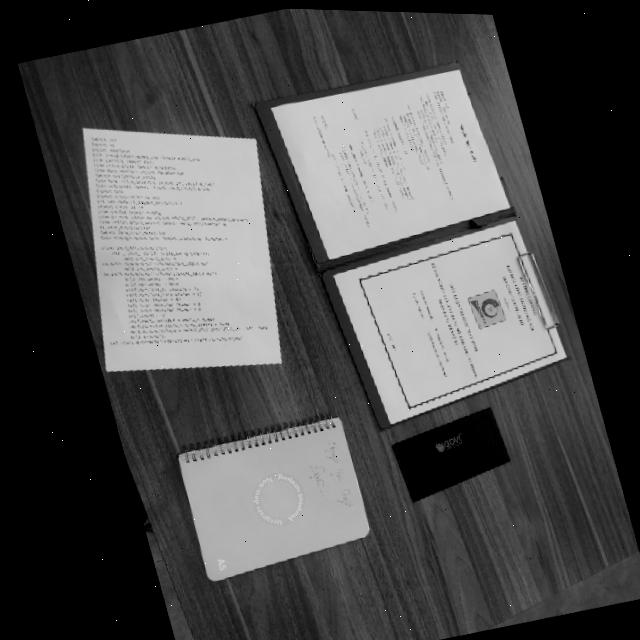document: (83, 127, 282, 371), (333, 220, 566, 424), (271, 69, 510, 259), (176, 416, 371, 583)
